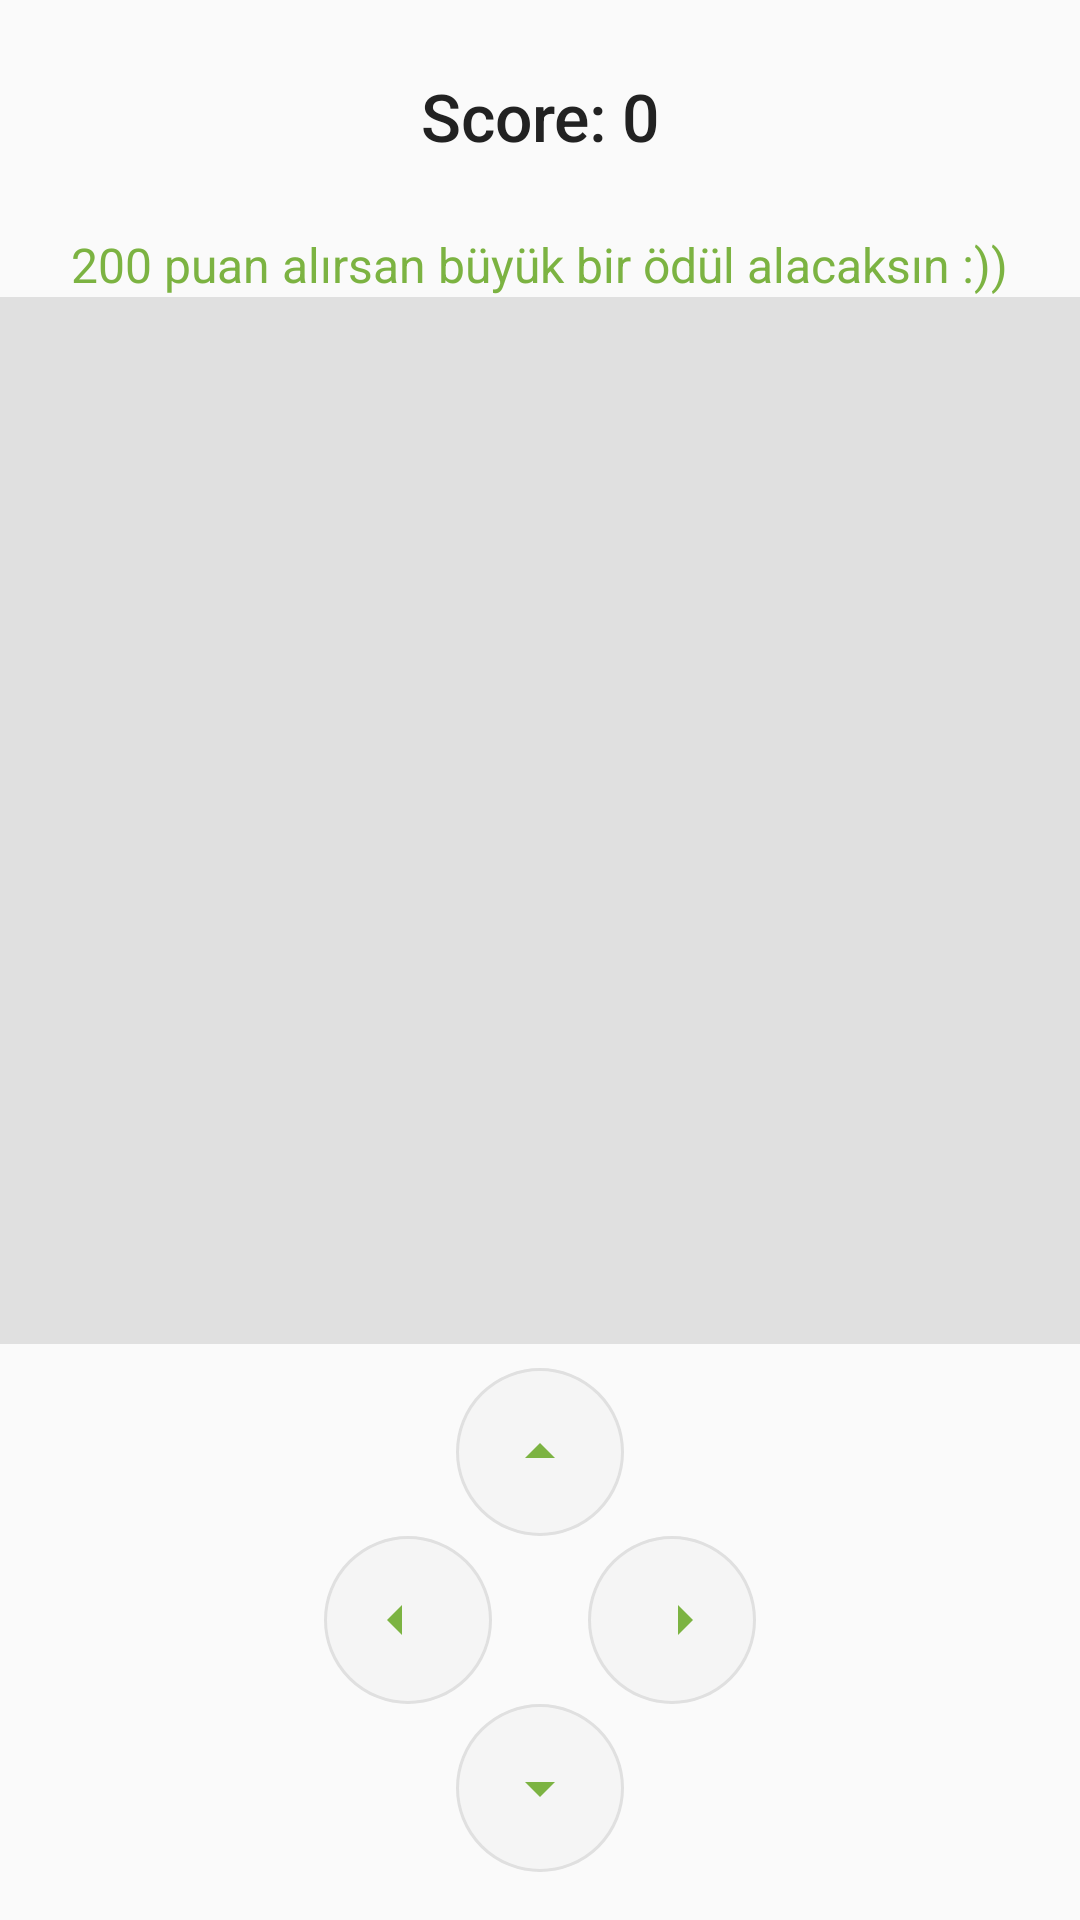

Icons on this 1080px x 1920px Android screen, each with the point to tap as (x=x, y=y):
arrow down: (x=540, y=1788)
arrow left: (x=408, y=1620)
arrow right: (x=672, y=1620)
arrow up: (x=540, y=1452)
